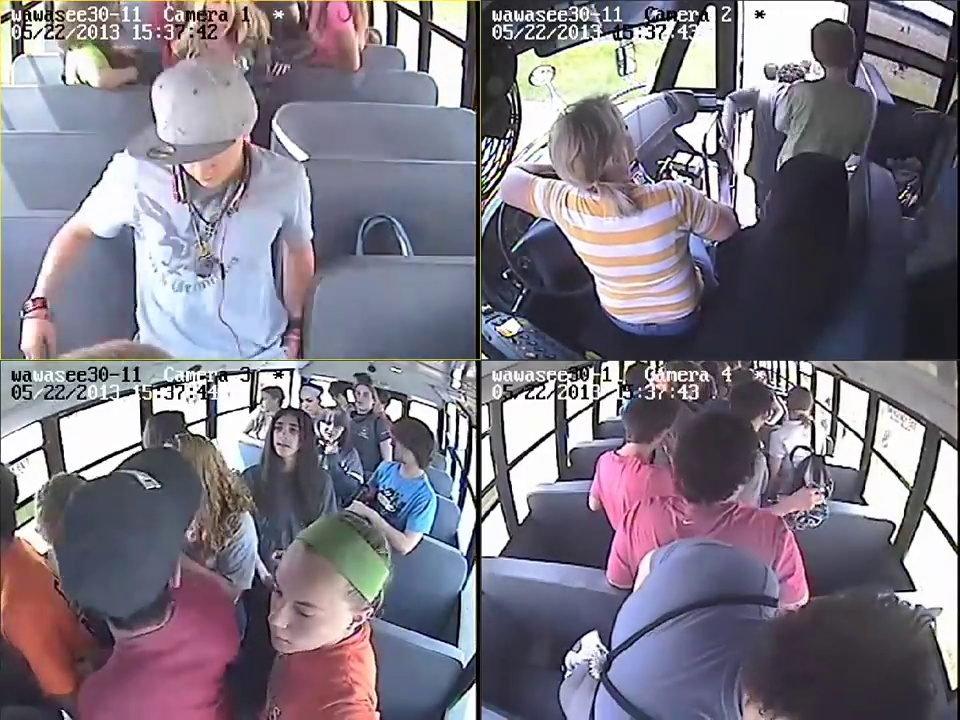face: (263, 559, 343, 653), (172, 149, 239, 198), (273, 407, 299, 463), (389, 430, 413, 464), (321, 409, 344, 444), (353, 383, 376, 410), (259, 389, 276, 415), (299, 392, 313, 406)
